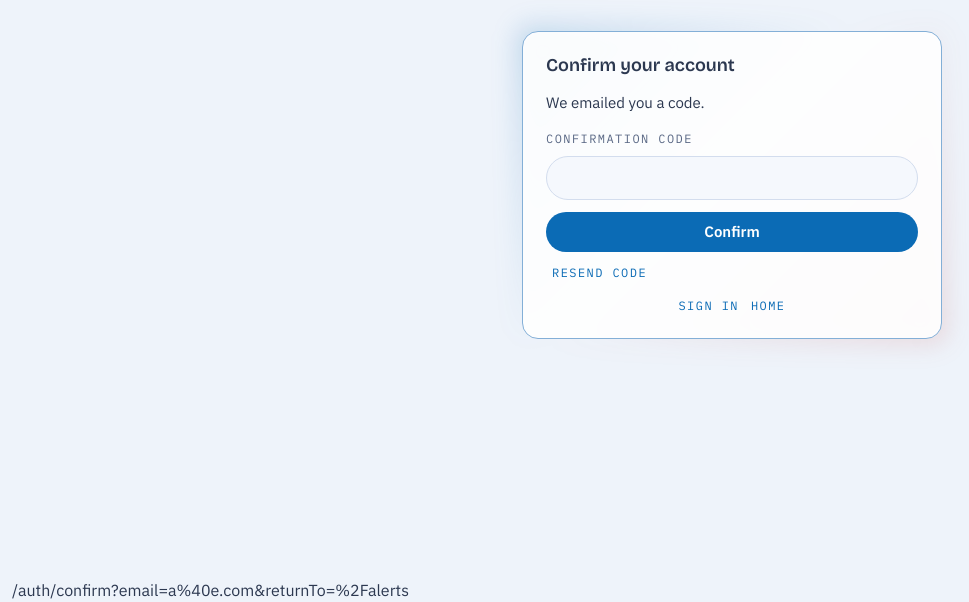
Test: ConfirmPage › with a pending sign-up in memory, confirms and signs in directly, landing on returnTo
The image size is (969, 602).
Type "123456" into the field labelled "Confirmation code". click: coordinates (732, 178)
box: [546,156,918,200]
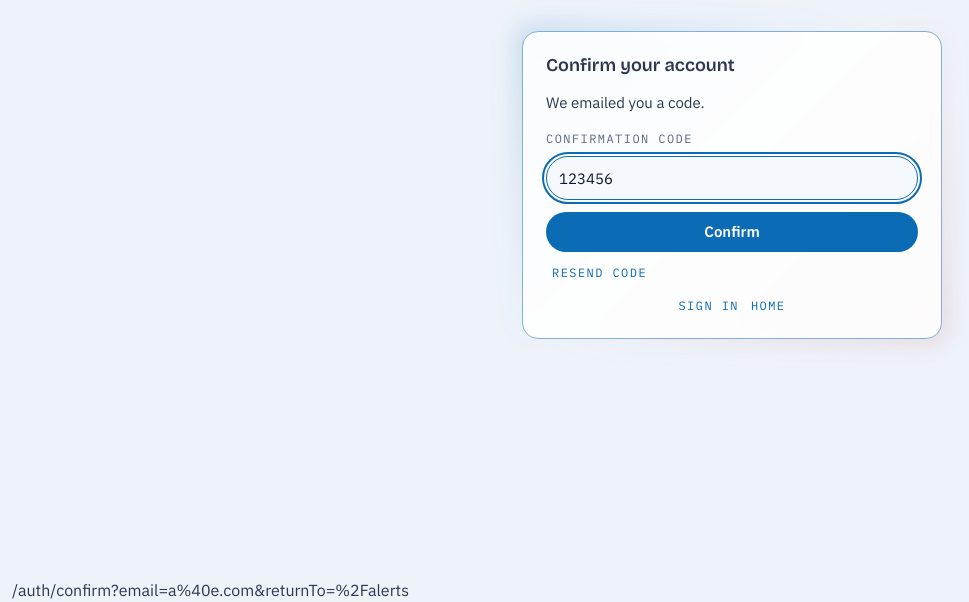
Click the button with test id "auth-submit". click: coordinates (732, 232)
box: [546,212,918,252]
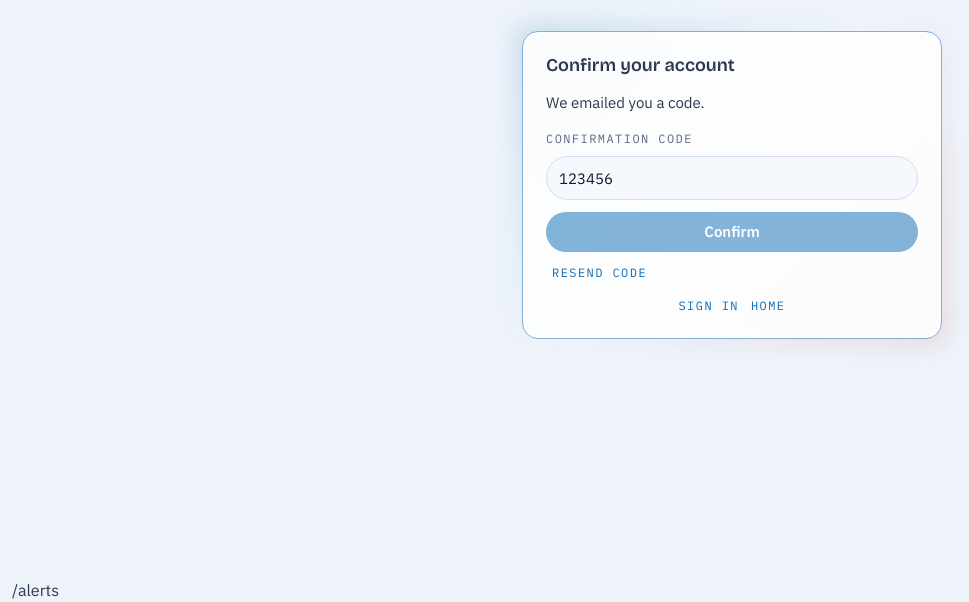
Check: the text with test id "here" reads "/alerts", box [12,580,59,600]
